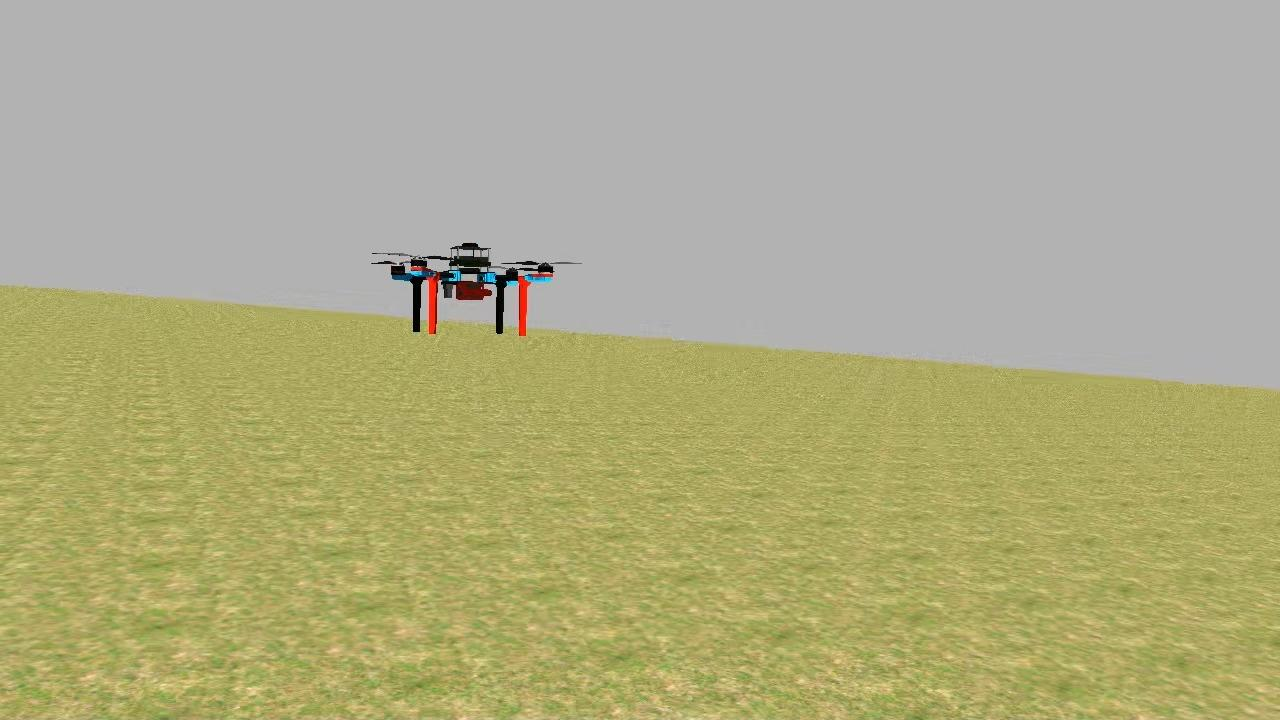UAV: (388, 238, 560, 344)
